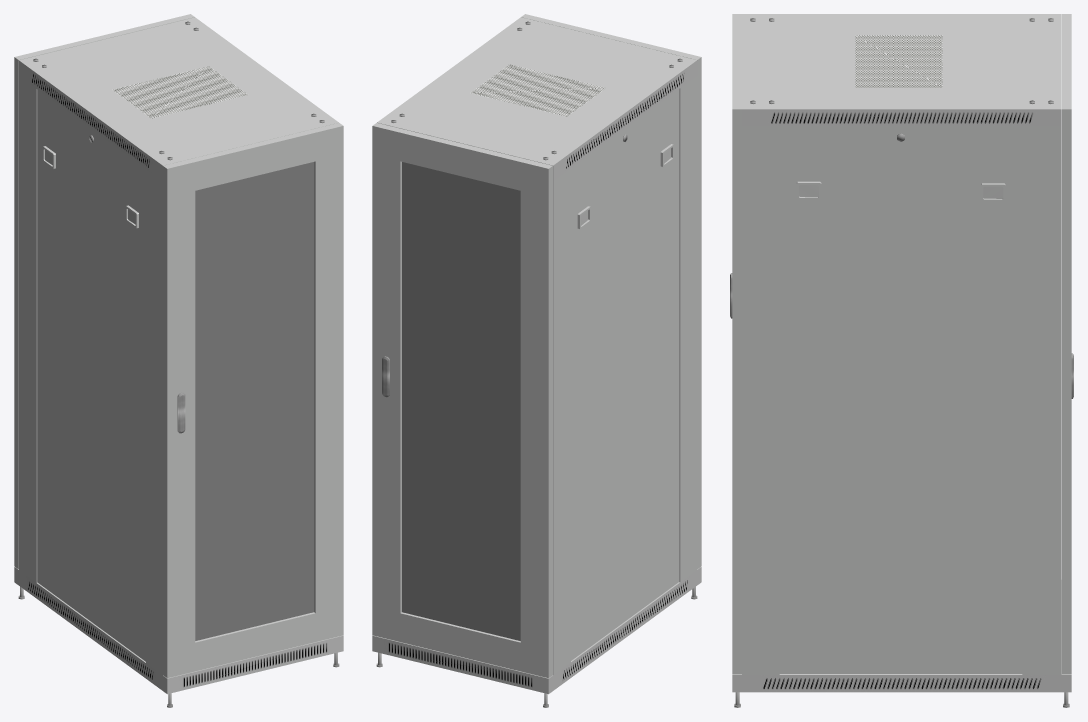
Rendered from RKAG35.fbx.
3 views of the same model, side by side, from view 1: azimuth 30°, elevation 25°; view 2: azimuth 150°, elevation 25°; view 3: azimuth 270°, elevation 25° (orthographic). The views are drawn at different scales.
Parts seen in each view (by area): view 1: frontdoor, RKAG35, Box141, backdoor; view 2: backdoor, RKAG35, Box141, frontdoor; view 3: RKAG35, Box141, frontdoor, backdoor.
Part boxes in pixels (x1,y1,x2,y2): frontdoor: [163, 123, 343, 678]; RKAG35: [37, 89, 145, 661]; Box141: [14, 17, 343, 707]; backdoor: [14, 14, 194, 569]; backdoor: [372, 123, 552, 678]; RKAG35: [571, 89, 679, 660]; Box141: [372, 17, 701, 707]; frontdoor: [521, 14, 701, 568]; RKAG35: [779, 126, 1022, 673]; Box141: [732, 14, 1071, 707]; frontdoor: [730, 14, 741, 674]; backdoor: [1062, 14, 1073, 674].
Size of the model in its own units: 610 by 1761 by 913.
6 materials, 5 textured.
